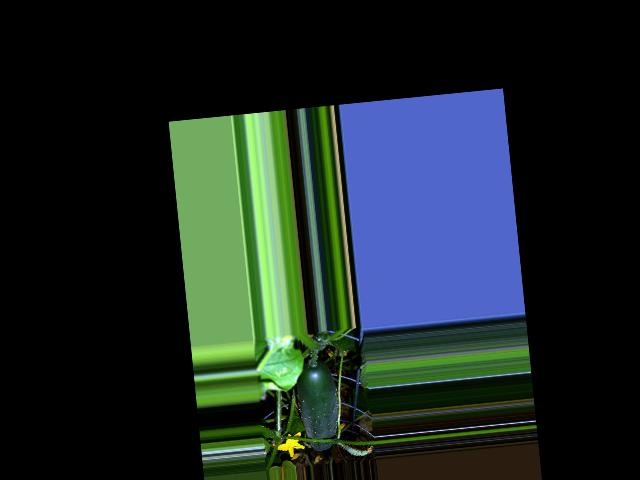cucumber: (294, 357, 343, 452)
